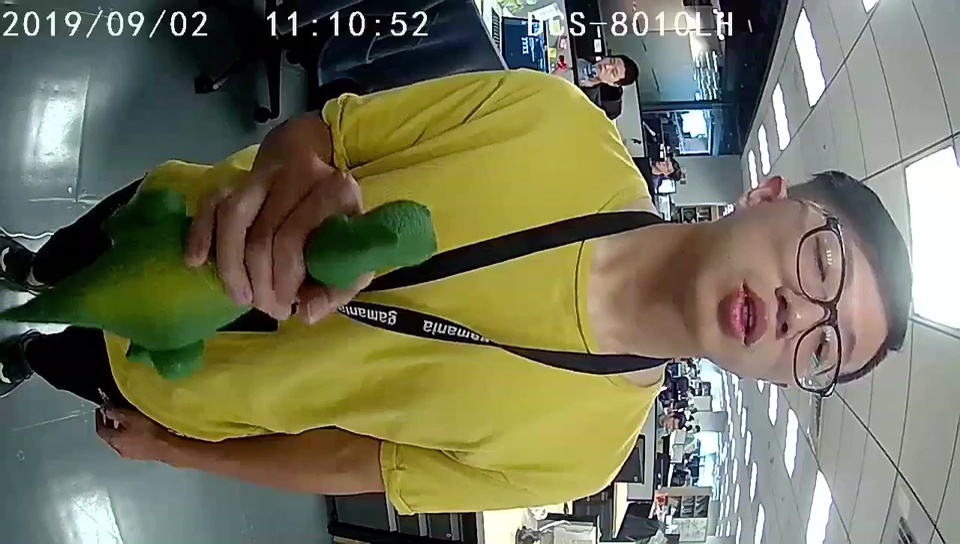rex: (117, 197, 438, 379)
